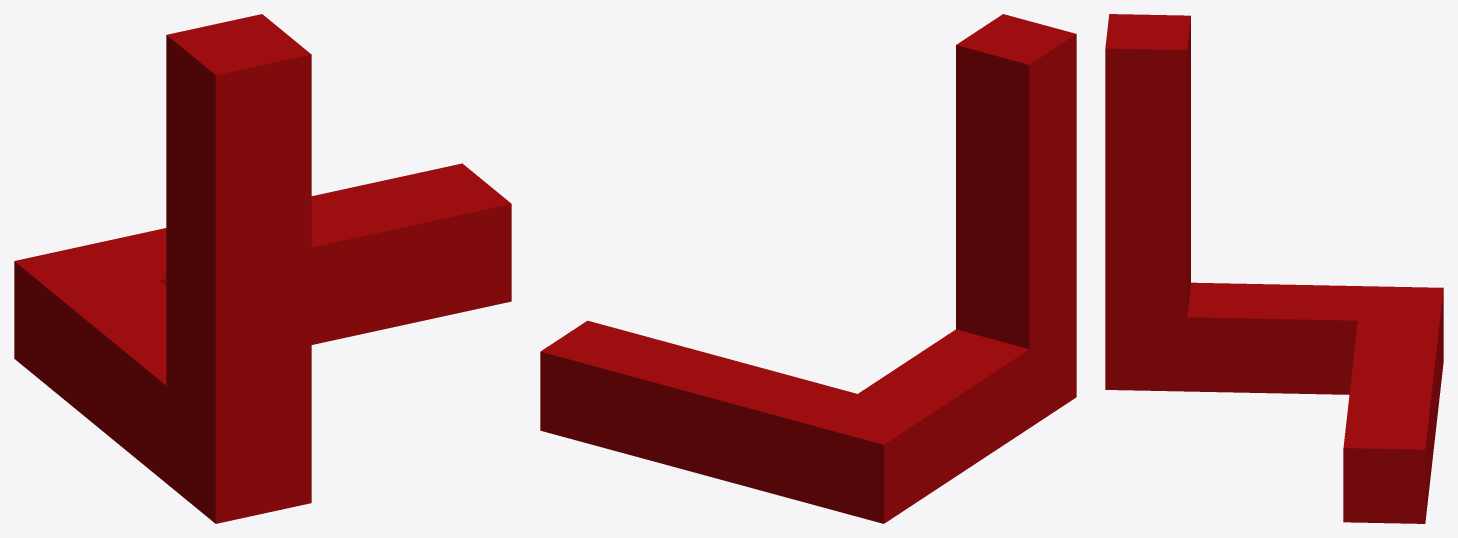
The model's file is Easy_robot.dae.
The picture shows the model from 3 angles, left to right: view 1: azimuth 30°, elevation 25°; view 2: azimuth 150°, elevation 25°; view 3: azimuth 270°, elevation 25°; orthographic projection. The views are drawn at different scales.
Visible parts, largest first — view 1: instance_0; view 2: instance_0; view 3: instance_0.
Boxes of the visible parts, x1,y1,x2,y2 form: instance_0: [14, 14, 511, 523]; instance_0: [540, 14, 1076, 523]; instance_0: [1105, 14, 1443, 523].
Bounding box in the file's own units: 57.23 × 48.51 × 54.
